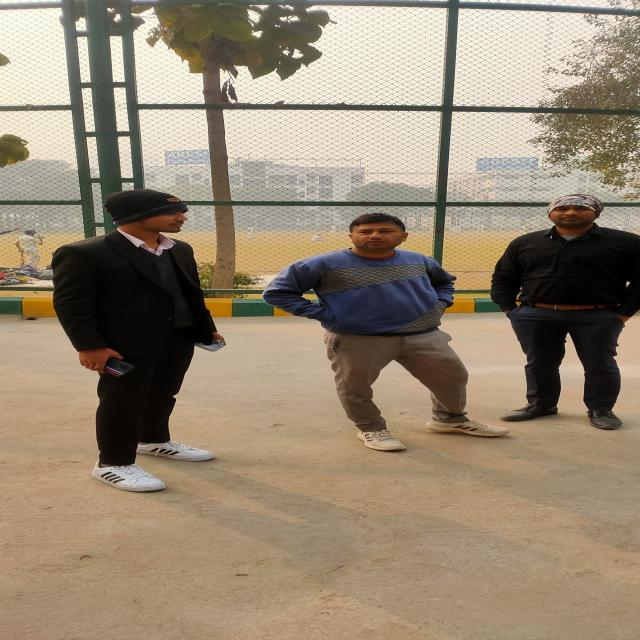unsafe: (44, 188, 220, 494), (309, 206, 464, 455), (495, 197, 640, 428)
